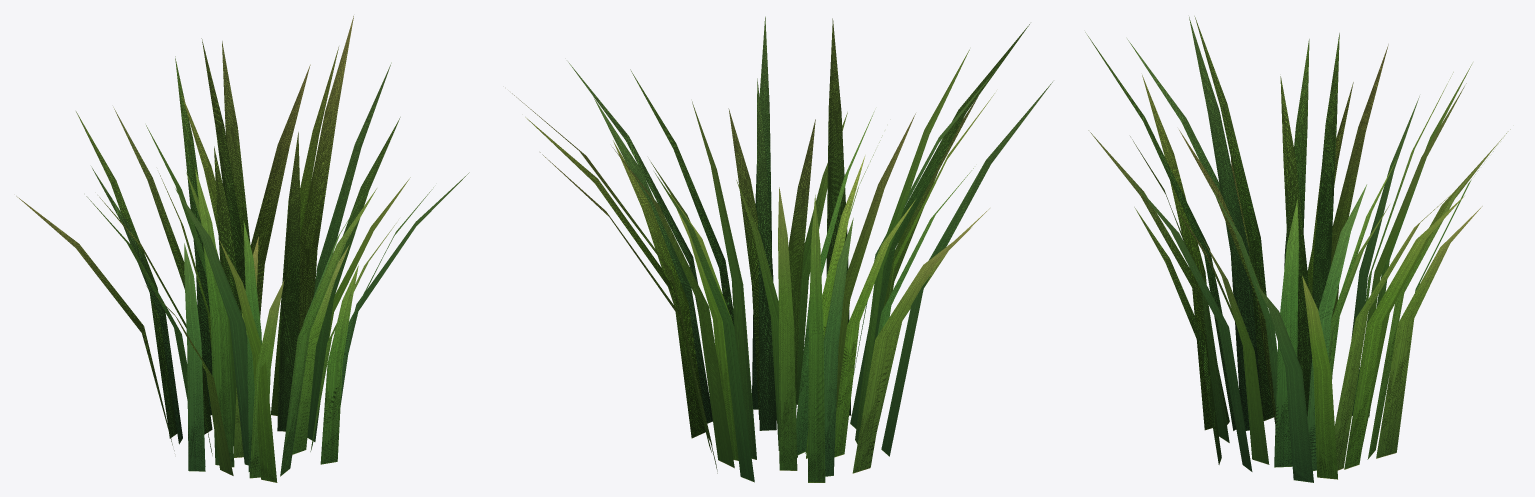
Rendered from Grass_Tall_02.fbx.
The picture shows the model from 3 angles, left to right: view 1: azimuth 30°, elevation 25°; view 2: azimuth 150°, elevation 25°; view 3: azimuth 270°, elevation 25°; orthographic projection. The views are drawn at different scales.
Visible parts, largest first — view 1: Grass_Tall_02; view 2: Grass_Tall_02; view 3: Grass_Tall_02.
Part boxes in pixels (x1,y1,x2,y2): Grass_Tall_02: (16,16,469,482); Grass_Tall_02: (512,16,1052,482); Grass_Tall_02: (1085,16,1510,482).
Bounding box in the file's own units: 0.7916 × 0.6707 × 0.696.
1 material, 1 textured.
